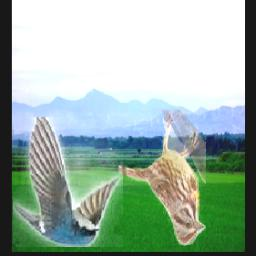Sparrow: (118, 111, 206, 247)
Swallow: (12, 118, 122, 248)
